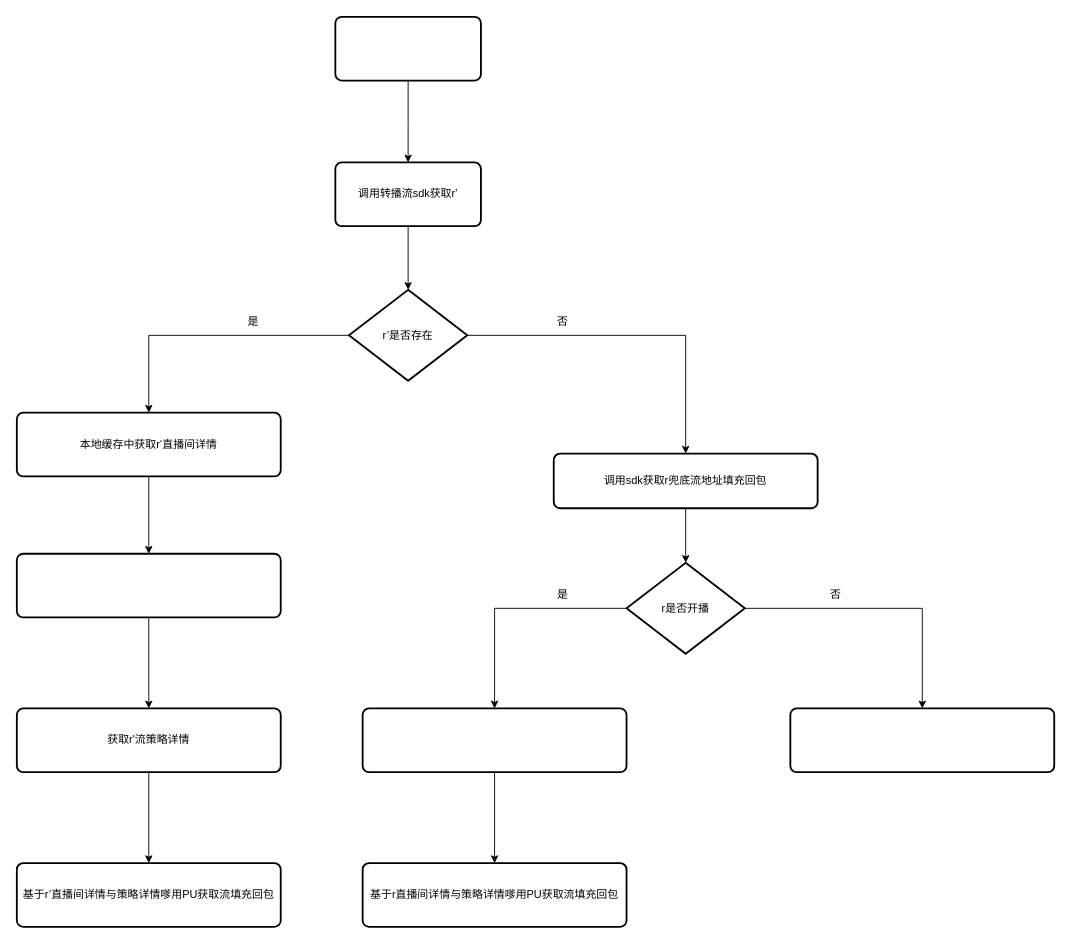
The diagram is 1070 pixels wide and 943 high, and some of its shapes have lost their labels. The centre of each missing label's shape, as x and y in pixels:
结束流程，不请求流地址详情: [922,740]
获取r流策略详情: [494,740]
获取被请求直播间r详情: [407,48]
调用sdk获取r‘兜底流地址填充回包: [148,585]
